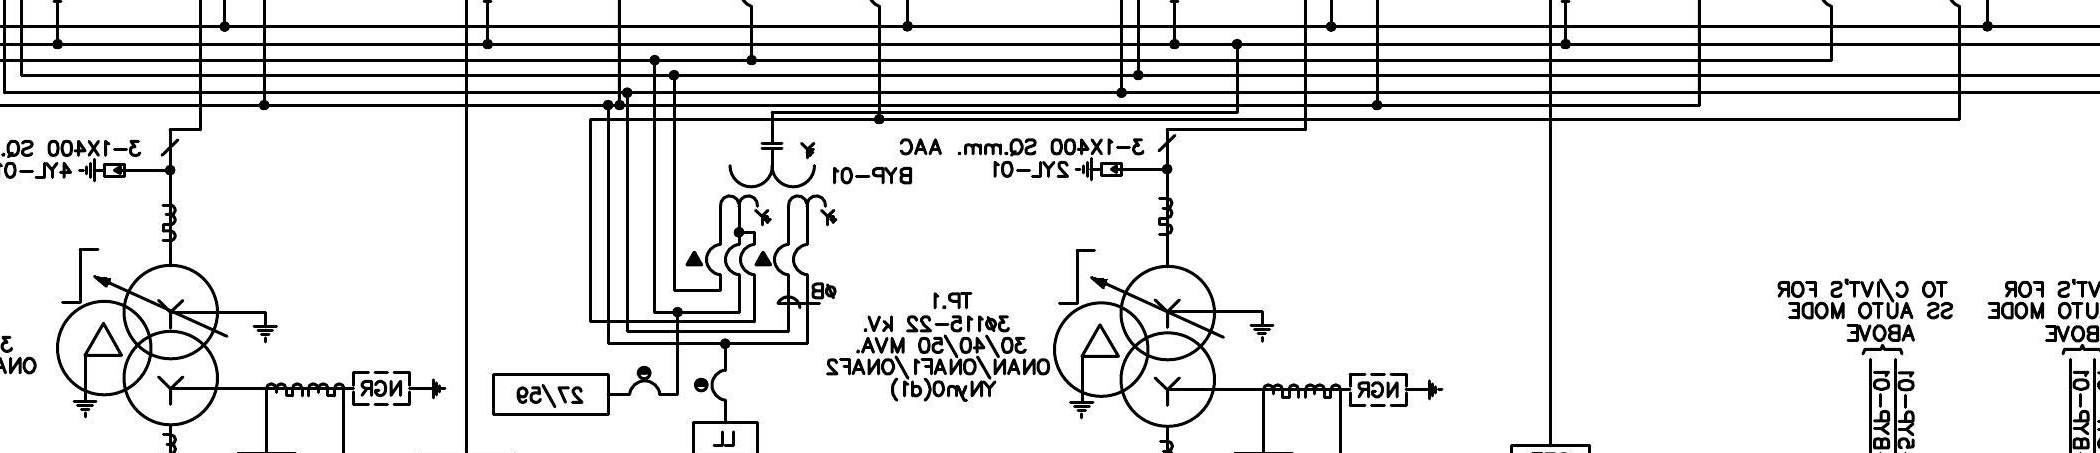11522_tx_ynyn0d1: (55, 263, 222, 428), (1051, 264, 1217, 429)
115_cvt_3p: (718, 142, 838, 226)
115_la: (78, 157, 126, 184), (1074, 157, 1124, 182)
NGR_future: (352, 370, 447, 406), (1349, 373, 1444, 407)
